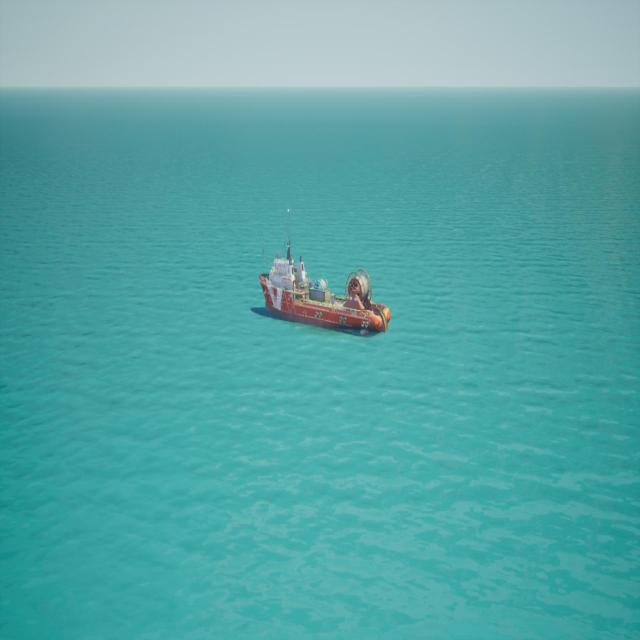tug boat: (254, 208, 393, 345)
